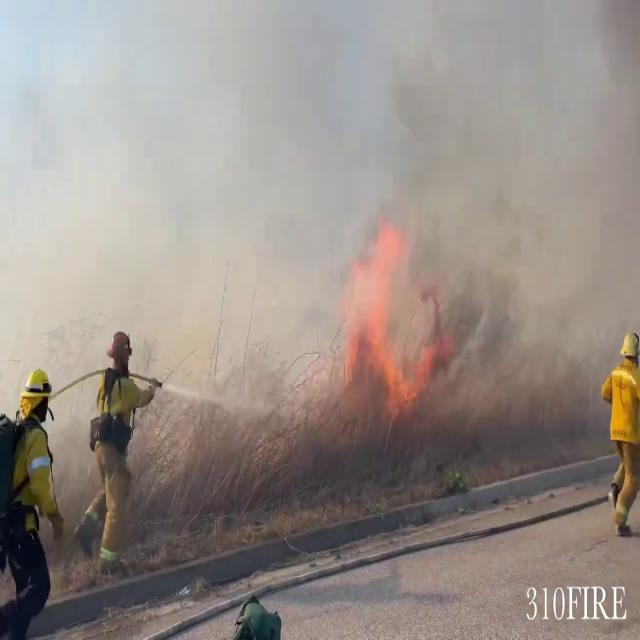Fire: (338, 219, 444, 411)
Smoke: (354, 0, 640, 420)
